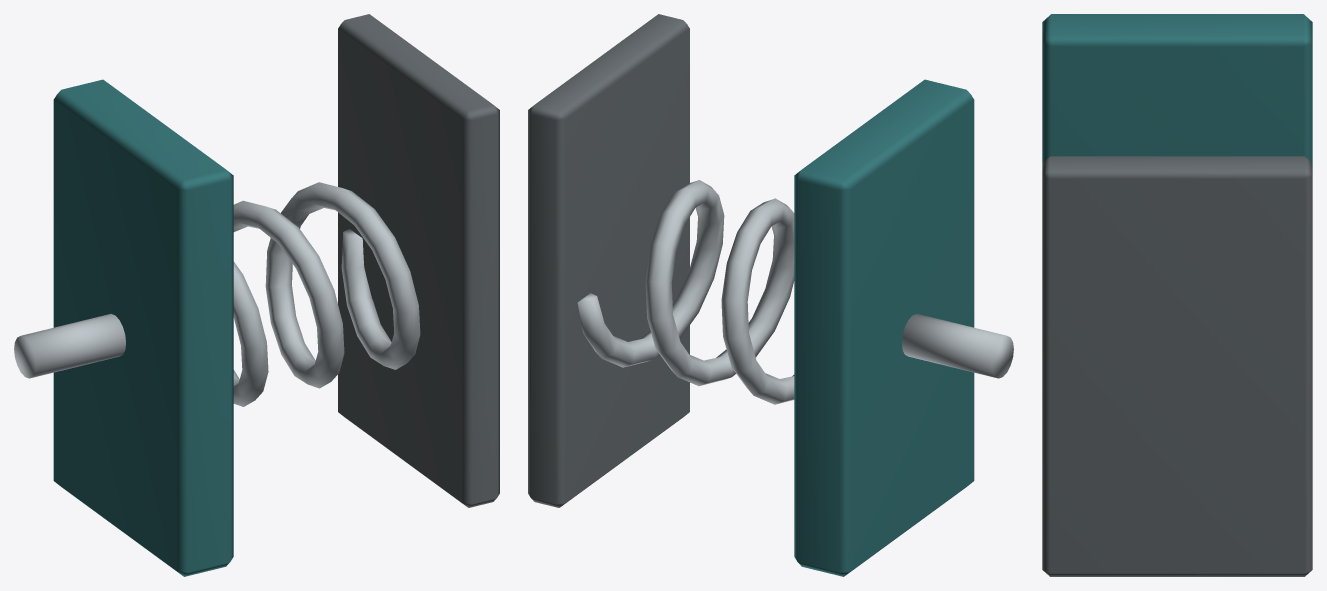
The model's file is VLAB_elastic_bumper.fbx.
3 renders of one model, left to right at view 1: azimuth 30°, elevation 25°; view 2: azimuth 150°, elevation 25°; view 3: azimuth 270°, elevation 25°, orthographic. The views are drawn at different scales.
Parts seen in each view (by area): view 1: VLAB_elastic_bumper_Base_VIS, VLAB_elastic_bumper_Contact_VIS, VLAB_elastic_bumper_SpringVisual_VIS; view 2: VLAB_elastic_bumper_Base_VIS, VLAB_elastic_bumper_Contact_VIS, VLAB_elastic_bumper_SpringVisual_VIS; view 3: VLAB_elastic_bumper_Contact_VIS, VLAB_elastic_bumper_Base_VIS.
Part boxes in pixels (left/top/right/bottom): VLAB_elastic_bumper_Base_VIS: left=14, top=79, right=233, bottom=576; VLAB_elastic_bumper_Contact_VIS: left=338, top=14, right=499, bottom=507; VLAB_elastic_bumper_SpringVisual_VIS: left=233, top=182, right=420, bottom=406; VLAB_elastic_bumper_Base_VIS: left=794, top=79, right=1013, bottom=576; VLAB_elastic_bumper_Contact_VIS: left=528, top=14, right=689, bottom=507; VLAB_elastic_bumper_SpringVisual_VIS: left=577, top=180, right=794, bottom=404; VLAB_elastic_bumper_Contact_VIS: left=1042, top=156, right=1312, bottom=576; VLAB_elastic_bumper_Base_VIS: left=1042, top=14, right=1312, bottom=162.
Bounding box in the file's own units: 0.0435 × 0.04 × 0.024.
